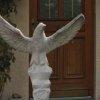Statue: (8, 10, 81, 95)
